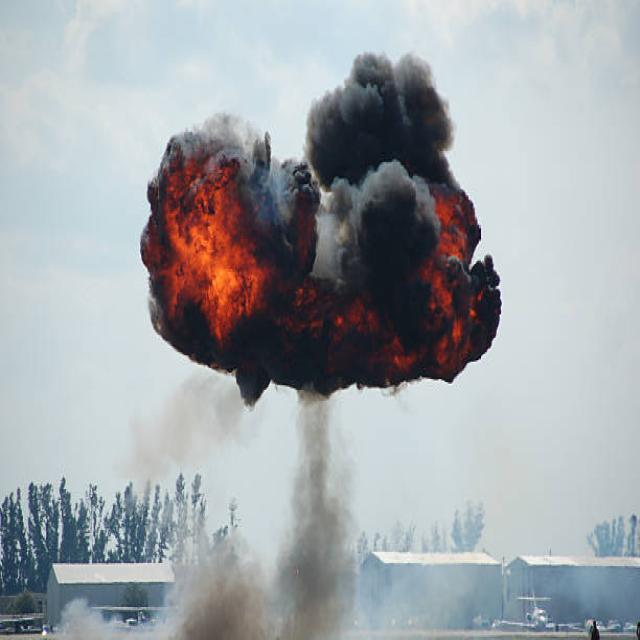Fire: (164, 172, 260, 322), (289, 276, 381, 358), (436, 204, 484, 324)
Smoke: (314, 56, 502, 367), (154, 136, 323, 402)
